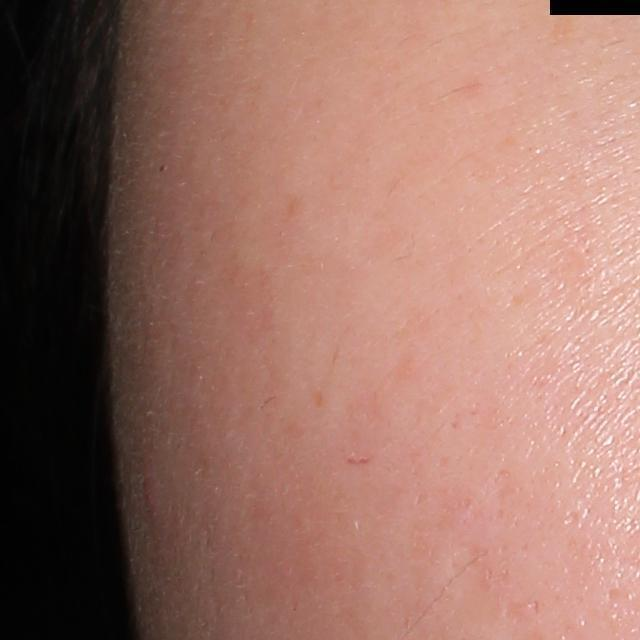papule: (142, 468, 162, 512)
